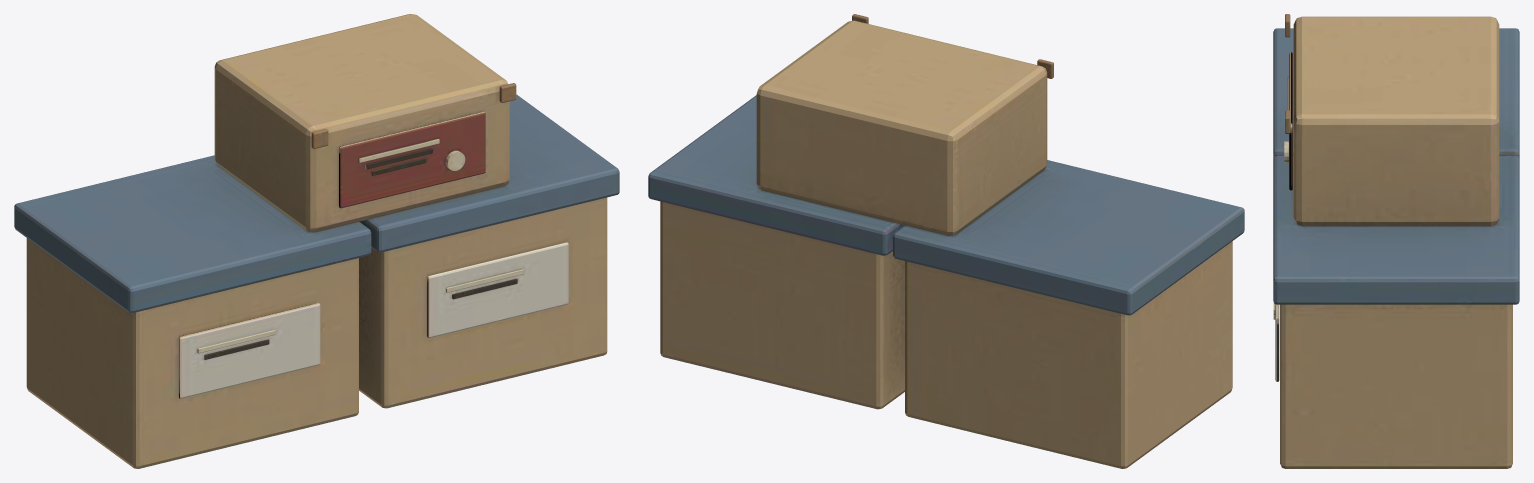
File: shelfwall-boxstack-b.glb
3 views of the same model, side by side, from view 1: azimuth 30°, elevation 25°; view 2: azimuth 150°, elevation 25°; view 3: azimuth 270°, elevation 25° (orthographic). The views are drawn at different scales.
Parts seen in each view (by area): view 1: case-baked; view 2: case-baked; view 3: case-baked.
Boxes of the visible parts, box(x1,y1,x2,y2) form: case-baked: box(14, 14, 619, 468); case-baked: box(648, 14, 1244, 468); case-baked: box(1273, 14, 1519, 468).
Bounding box in the file's own units: 0.87 × 0.495 × 0.36.
1 material, 1 textured.
